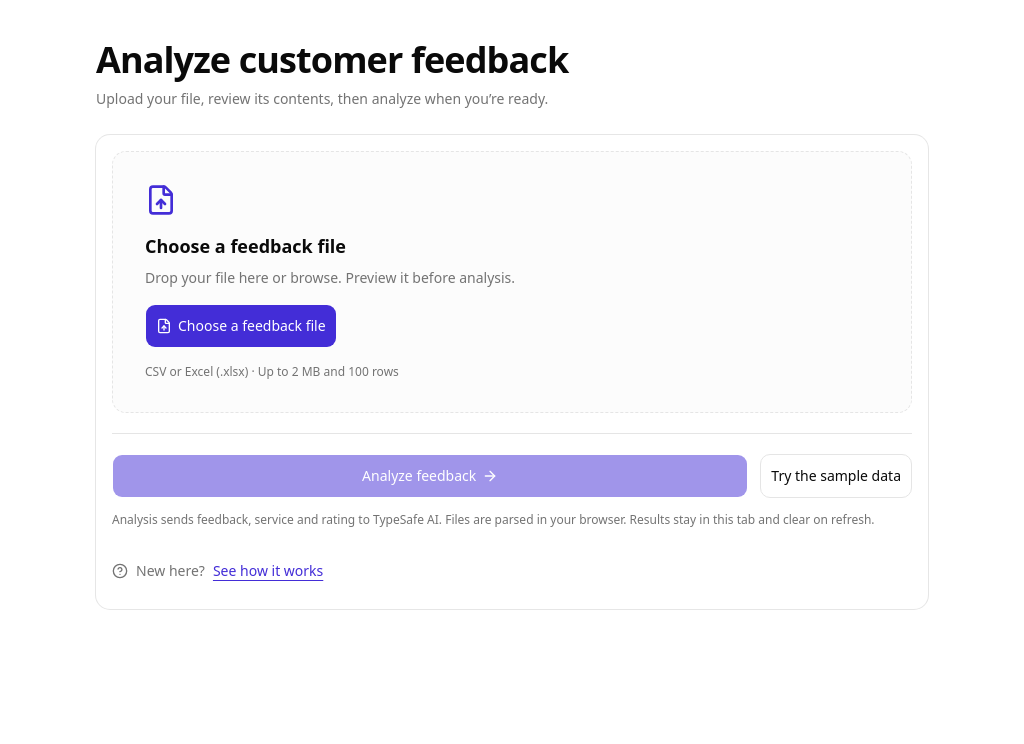
Test: upload and analysis workflow › shows recovery when every row fails, then retries the batch successfully
What coordinates should you click on to do the following:
click the button "Try the sample data"
I would click on:
 (836, 476)
Its box is [760,454,912,498].
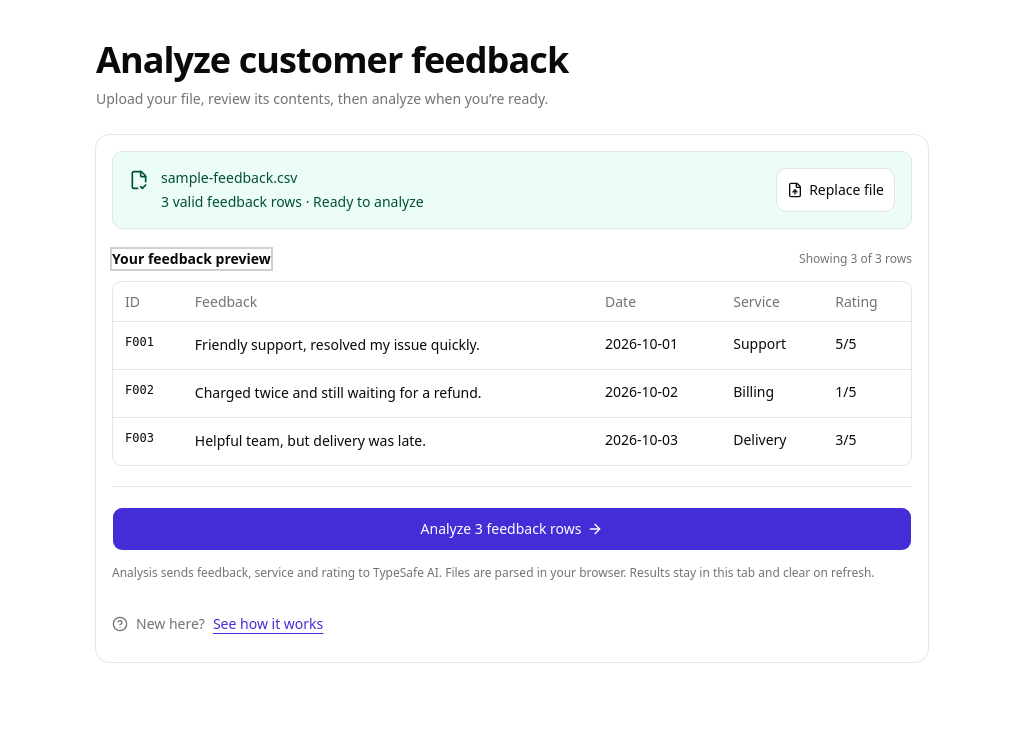
Expected: the heading "Your feedback preview" is shown, [112,249,271,269]
What coordinates should you click on to do the following:
click the button "Analyze 3 feedback rows"
I would click on:
 (512, 528)
Its box is [112,506,912,550].
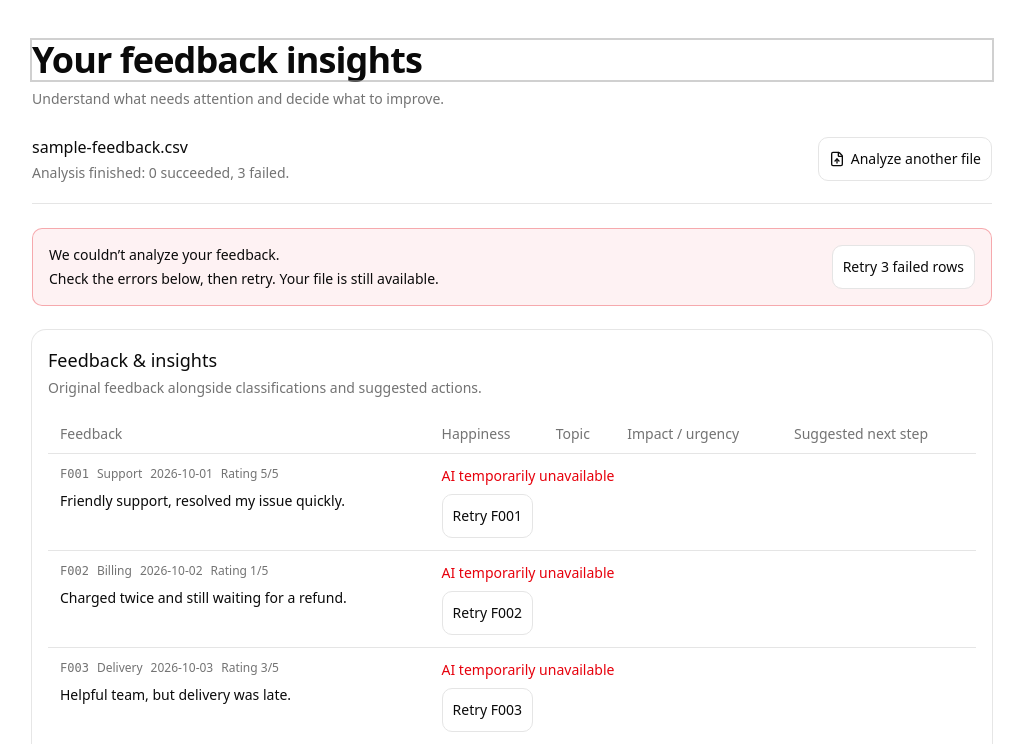
Expected: the text "We couldn’t analyze your feedback." is shown, [49,245,280,264]
Expected: the heading "Your feedback preview" is gone
What coordinates should you click on to do the following:
click the button "Retry 3 failed rows"
I would click on:
 (903, 267)
Its box is [832,245,975,289].
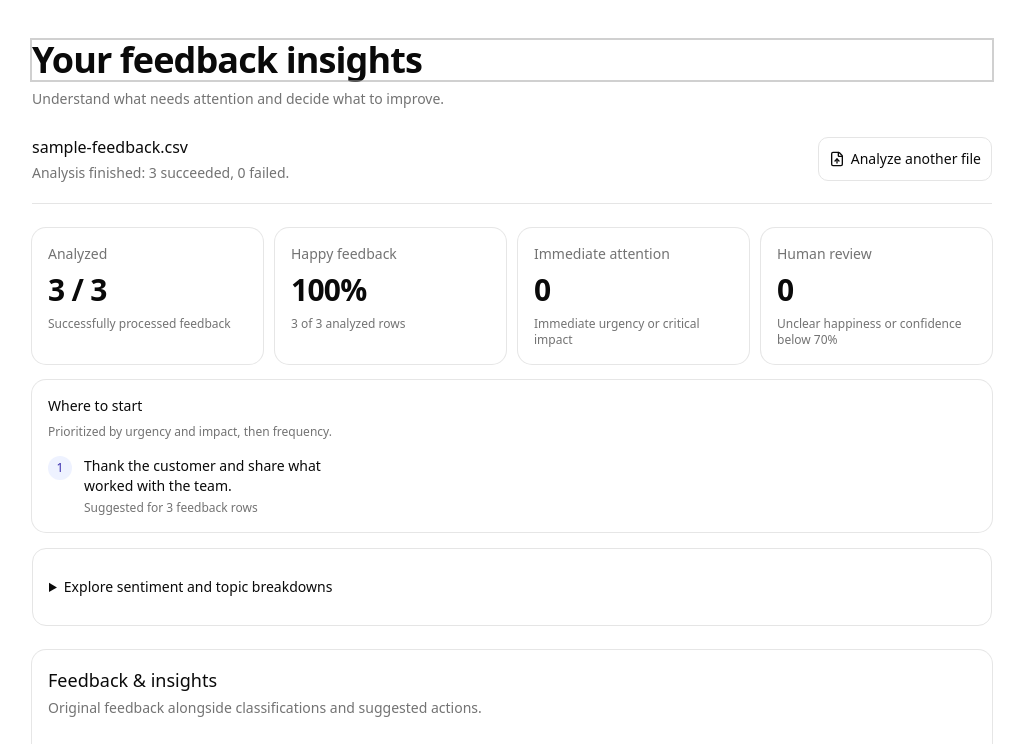
Expected: the text "Analysis finished: 3 succeeded, 0 failed." is shown, [32,163,289,183]
